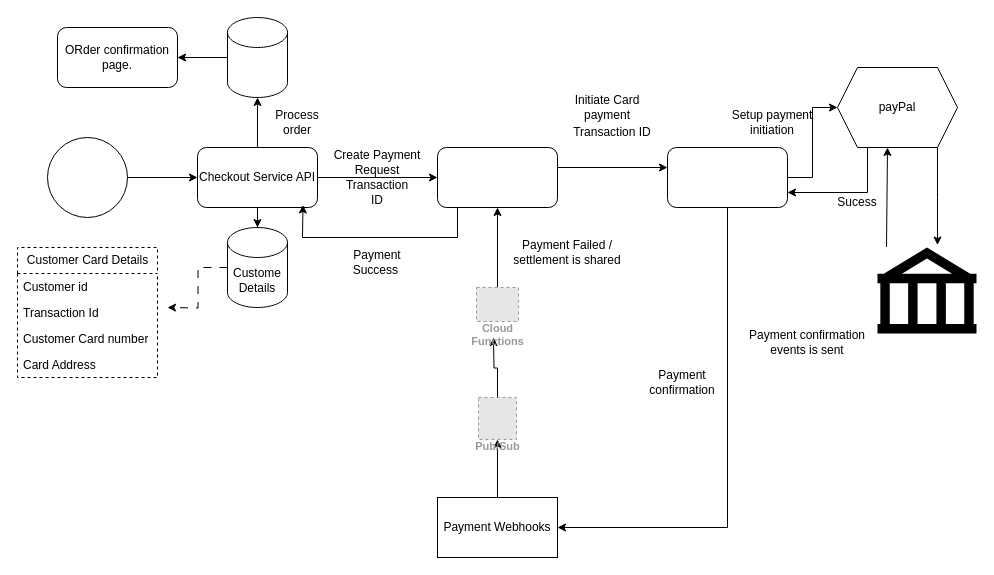
Image size: 994x575. Some labels were removed from this diagram. Grey dashed boxes stand in for pictures. The box of each missing label's shape, as (x1, y1, x2, y2) in pixels:
OMS: (226, 16, 288, 98)
Payment Gateway: (666, 146, 788, 208)
Payment Service: (436, 146, 558, 208)
User Transaction: (46, 136, 128, 218)
